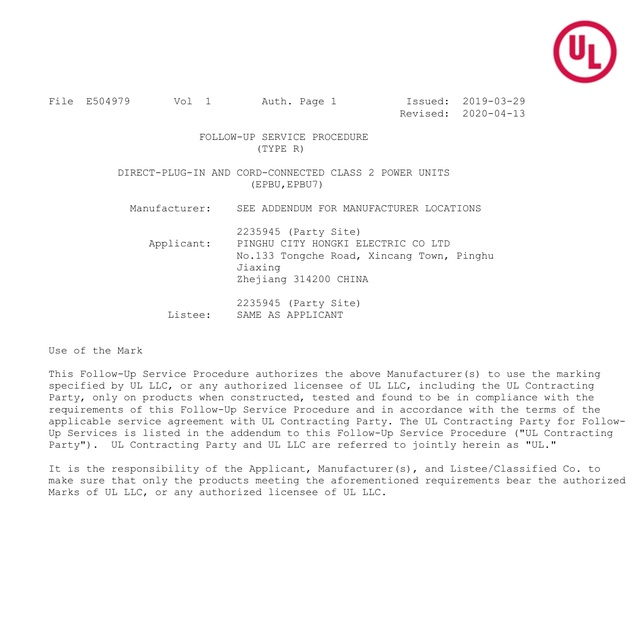ul: (552, 20, 617, 83)
